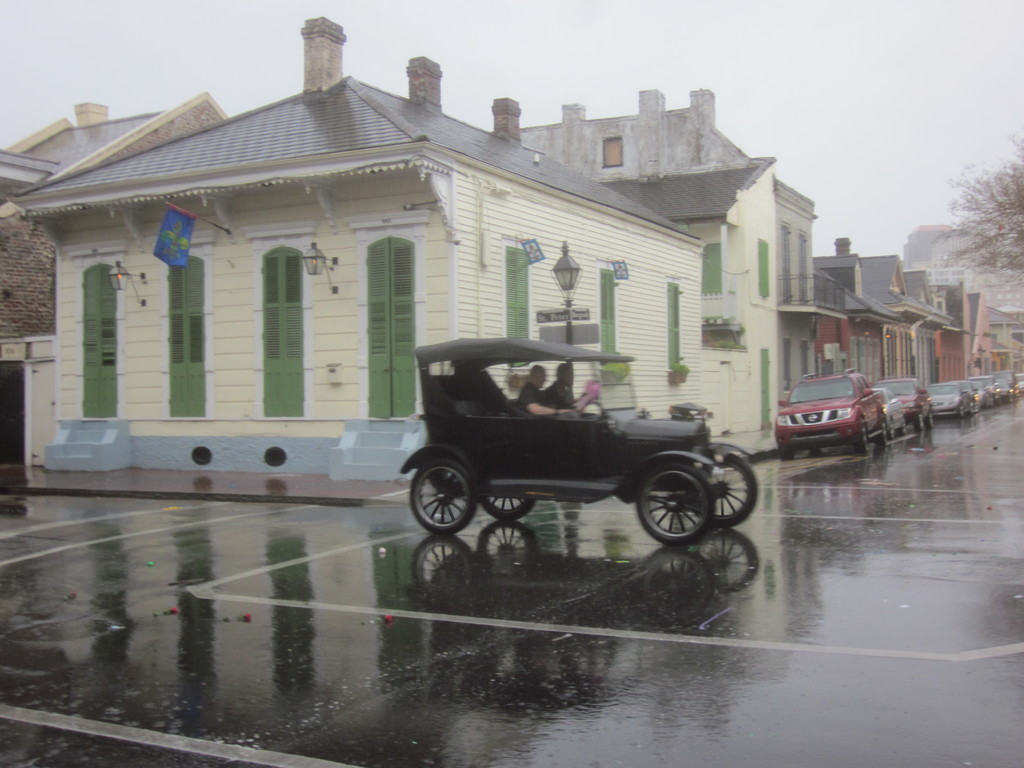Wheel: (634, 459, 718, 542), (409, 459, 474, 532), (692, 452, 755, 522), (479, 495, 540, 518), (856, 428, 874, 451), (779, 446, 799, 463), (880, 423, 893, 444), (916, 410, 925, 430), (901, 420, 909, 436), (929, 410, 934, 426), (961, 404, 966, 414), (1011, 394, 1016, 401), (971, 402, 975, 410)
